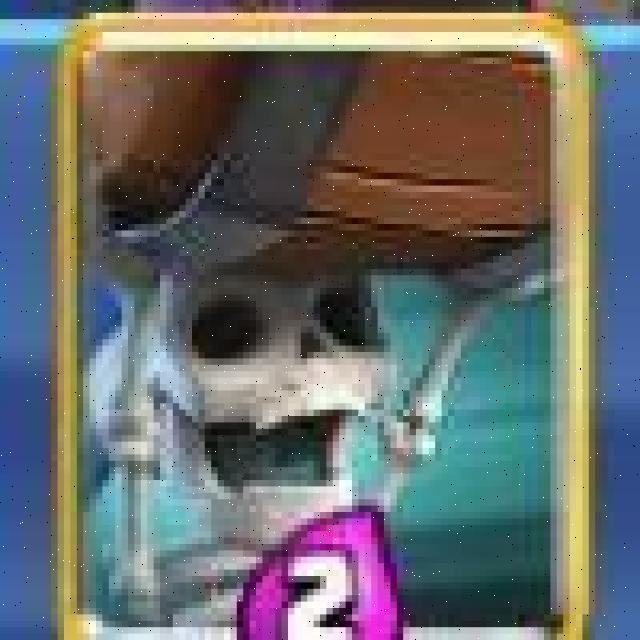Wall_Breakers: (55, 20, 593, 640)
